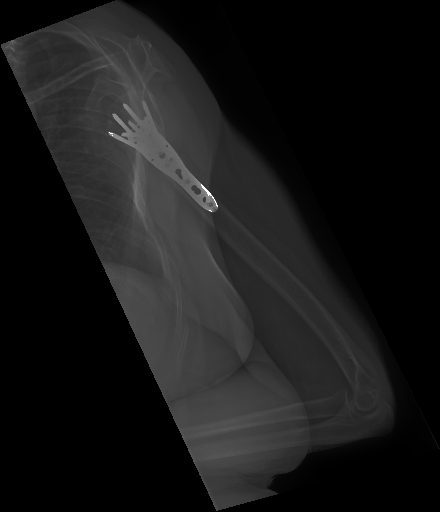implant: (108, 99, 218, 213)
